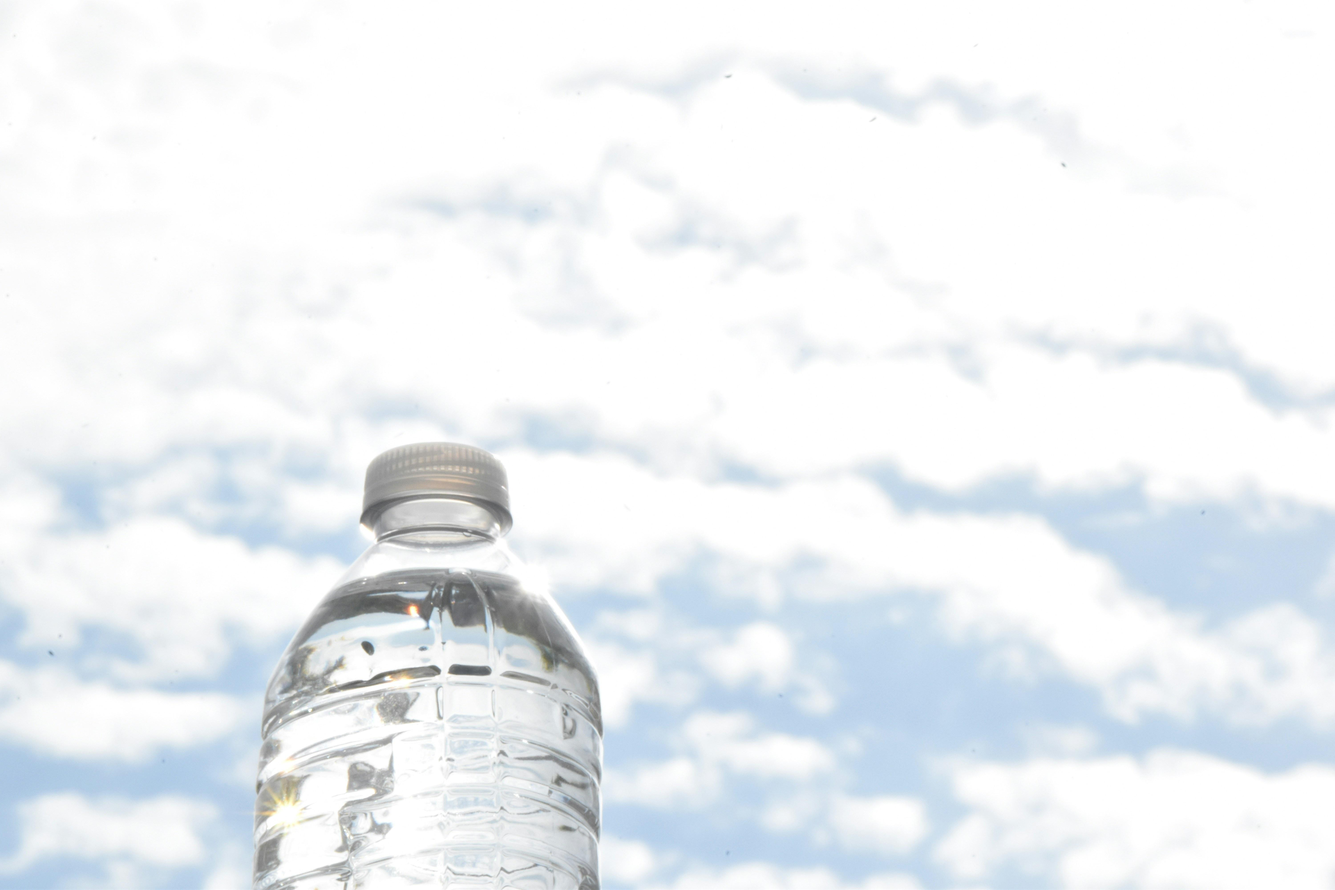Bottle-Detection: (167, 392, 681, 890)
